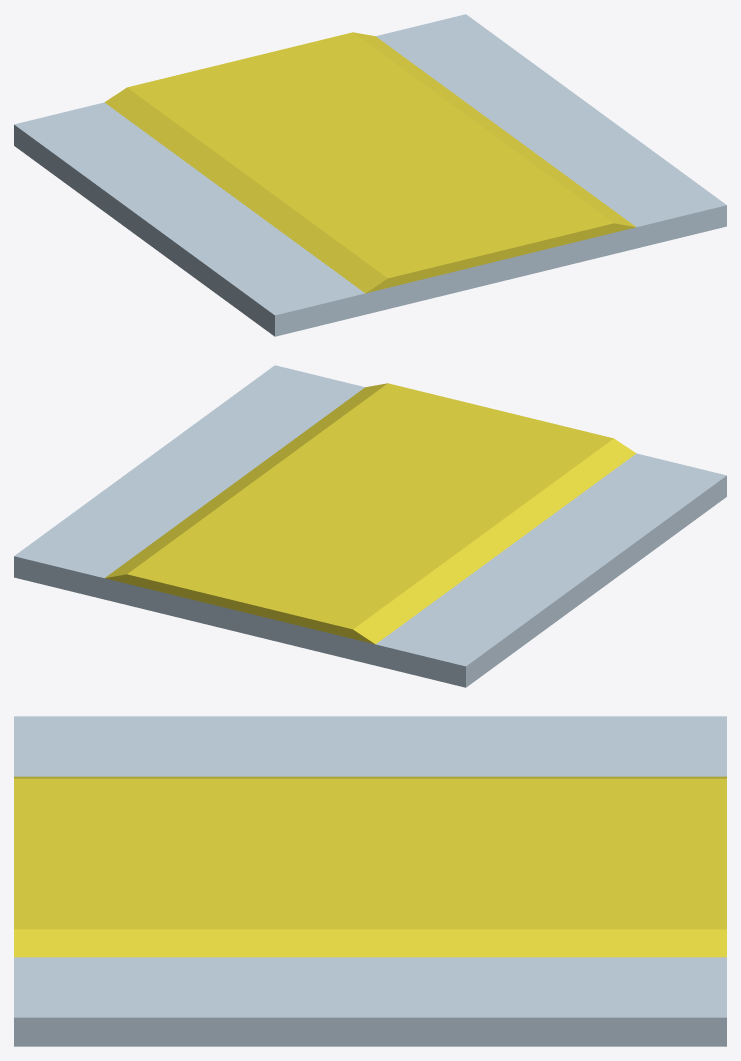
File: world22.fbx
3 renders of one model, top to bottom at view 1: azimuth 30°, elevation 25°; view 2: azimuth 150°, elevation 25°; view 3: azimuth 270°, elevation 25°, orthographic. The views are drawn at different scales.
Parts seen in each view (by area): view 1: Cube.128, Cube.129; view 2: Cube.128, Cube.129; view 3: Cube.128, Cube.129.
Boxes of the visible parts, x1,y1,x2,y2 form: Cube.128: (104,32,635,293); Cube.129: (14,14,726,336); Cube.128: (105,383,636,644); Cube.129: (14,365,726,687); Cube.128: (14,776,726,957); Cube.129: (14,716,726,1046).
Bounding box in the file's own units: 400 × 26.04 × 400.
